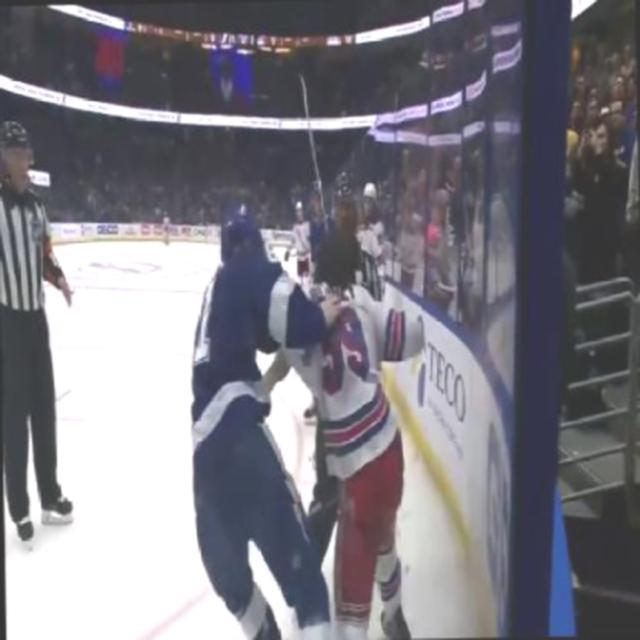fight: (183, 200, 429, 638), (0, 115, 78, 552)
